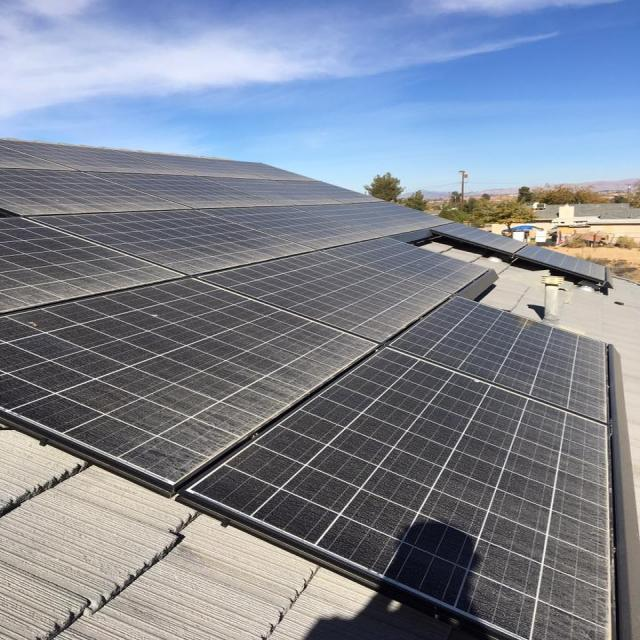Anomaly Solar Panel: (184, 345, 612, 640), (0, 276, 379, 485), (387, 294, 606, 424), (197, 250, 453, 343), (27, 209, 316, 276), (0, 216, 187, 314), (323, 237, 490, 294), (0, 168, 193, 215), (197, 206, 384, 251), (80, 171, 293, 208)
Surface Contaminant: (118, 330, 382, 482), (462, 399, 618, 639), (0, 262, 187, 313), (532, 323, 610, 423), (138, 234, 314, 276), (334, 283, 452, 342), (0, 189, 189, 219), (164, 191, 303, 212), (285, 224, 383, 250)
